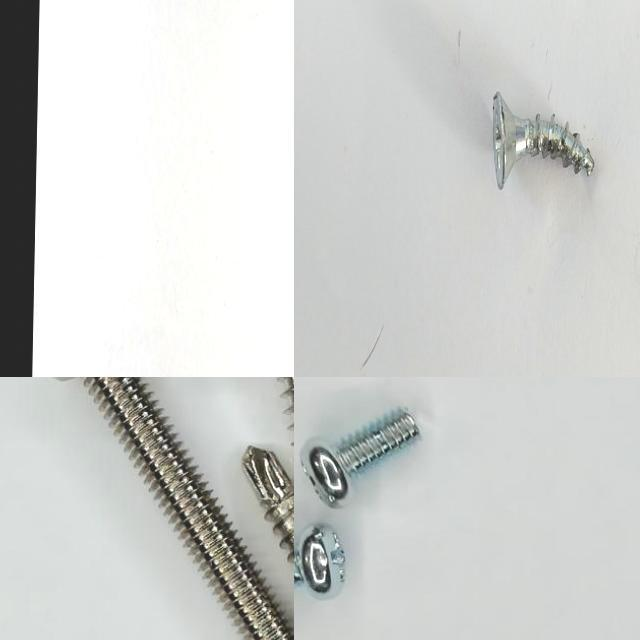Screw: (78, 377, 294, 640), (299, 409, 418, 509), (493, 91, 594, 189), (242, 446, 294, 561), (294, 526, 344, 600)
